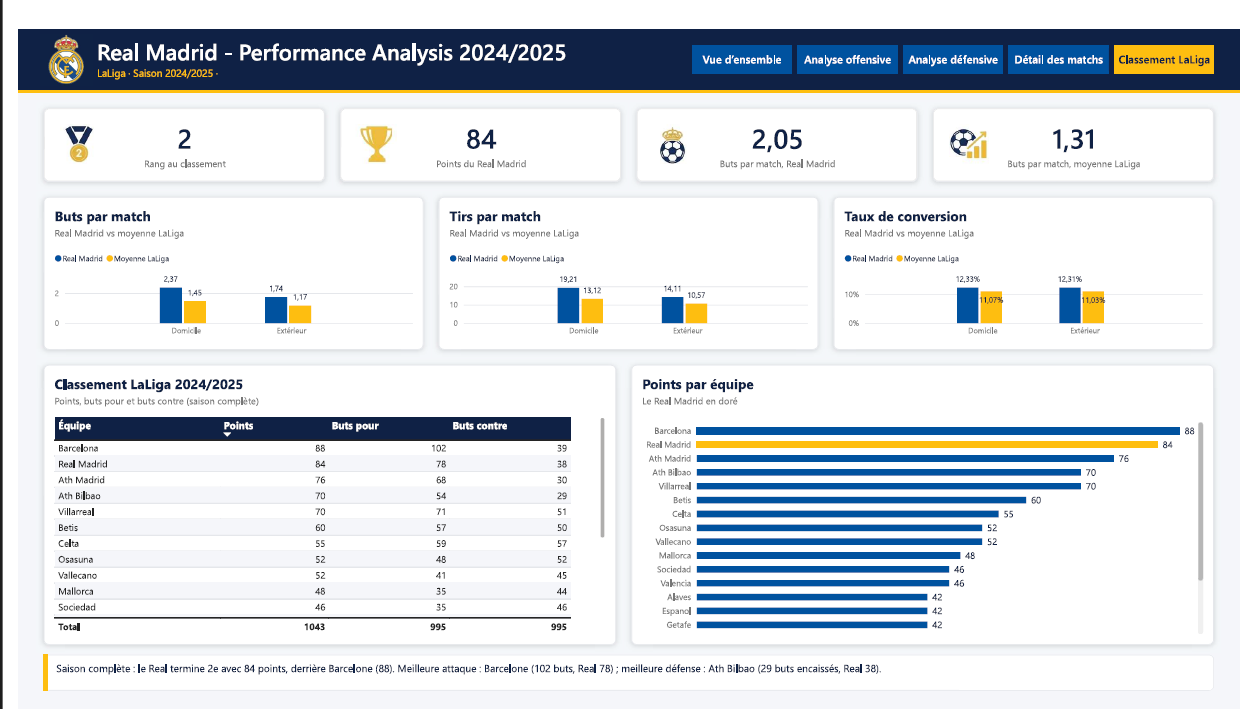

Layout of this report page (visuals, bound fields, positions):
{"tool":"powerbi","page":{"name":"Classement LaLiga","canvas":[1920,1080],"ordinal":4},"visuals":[{"type":"shape","box":[0,0,1920,96],"z":0},{"type":"shape","box":[0,96,1920,4],"z":1},{"type":"textbox","box":[124,12,920,48],"z":2},{"type":"textbox","box":[124,58,920,30],"z":3},{"type":"image","box":[36,8,80,80],"z":4},{"type":"shape","box":[1060,26,156,44],"z":11},{"type":"shape","box":[1226,26,156,44],"z":12},{"type":"shape","box":[1392,26,156,44],"z":13},{"type":"shape","box":[1558,26,156,44],"z":14},{"type":"shape","box":[1724,26,156,44],"z":15},{"type":"textbox","box":[1060,35,156,35],"z":21},{"type":"textbox","box":[1226,35,156,35],"z":22},{"type":"textbox","box":[1392,35,156,35],"z":23},{"type":"textbox","box":[1558,35,156,35],"z":24},{"type":"textbox","box":[1724,35,156,35],"z":25},{"type":"actionButton","box":[1060,26,156,44],"z":31},{"type":"actionButton","box":[1226,26,156,44],"z":32},{"type":"actionButton","box":[1392,26,156,44],"z":33},{"type":"actionButton","box":[1558,26,156,44],"z":34},{"type":"actionButton","box":[1724,26,156,44],"z":35},{"type":"shape","box":[40,984,1840,56],"z":70},{"type":"shape","box":[40,984,6,56],"z":71},{"type":"textbox","box":[60,994,1800,40],"z":72},{"type":"cardVisual","fields":{"Data":["LaLiga_Equipes.Rang du Real (points)"]},"box":[40,124,442,116],"z":100},{"type":"cardVisual","fields":{"Data":["Real_Madrid_2024_2025.Points"]},"box":[506,124,442,116],"z":101},{"type":"cardVisual","fields":{"Data":["Average(Real_Madrid_2024_2025.Buts par match)"]},"box":[972,124,442,116],"z":102},{"type":"cardVisual","fields":{"Data":["LaLiga_Equipes.Buts par match (LaLiga)"]},"box":[1438,124,442,116],"z":103},{"type":"clusteredColumnChart","title":"Buts par match","fields":{"Category":["Real_Madrid_2024_2025.Lieu du match"],"Y":["Average(Real_Madrid_2024_2025.Buts par match)","LaLiga_Equipes.Buts par match (LaLiga)"]},"box":[40,264,597,240],"z":200},{"type":"clusteredColumnChart","title":"Tirs par match","fields":{"Category":["Real_Madrid_2024_2025.Lieu du match"],"Y":["Average(Real_Madrid_2024_2025.Tirs par match)","LaLiga_Equipes.Tirs par match (LaLiga)"]},"box":[661,264,597,240],"z":201},{"type":"clusteredColumnChart","title":"Taux de conversion","fields":{"Category":["Real_Madrid_2024_2025.Lieu du match"],"Y":["Real_Madrid_2024_2025.Taux de conversion","LaLiga_Equipes.Conversion (LaLiga)"]},"box":[1282,264,597,240],"z":202},{"type":"tableEx","title":"Classement LaLiga 2024/2025","fields":{"Values":["LaLiga_Equipes.Equipe","Sum(LaLiga_Equipes.Points)","Sum(LaLiga_Equipes.ButsPour)","Sum(LaLiga_Equipes.ButsContre)"]},"box":[40,528,900,440],"z":203},{"type":"clusteredBarChart","title":"Points par équipe","fields":{"Category":["LaLiga_Equipes.Equipe"],"Y":["Sum(LaLiga_Equipes.Points)"]},"box":[964,528,916,440],"z":204},{"type":"image","box":[64,150,64,64],"z":300},{"type":"image","box":[530,150,64,64],"z":301},{"type":"image","box":[996,150,64,64],"z":302},{"type":"image","box":[1462,150,64,64],"z":303}]}

Visuals, with their boxes in screenshot pixels (x1, y1, x2, y2), scaled from the page's 1920x1080 canvas onto the 1252x709 screenshot:
shape: [left=0, top=0, right=1251, bottom=63]
shape: [left=0, top=63, right=1251, bottom=66]
textbox: [left=81, top=8, right=681, bottom=39]
textbox: [left=81, top=38, right=681, bottom=58]
image: [left=23, top=5, right=76, bottom=58]
shape: [left=691, top=17, right=793, bottom=46]
shape: [left=799, top=17, right=901, bottom=46]
shape: [left=908, top=17, right=1009, bottom=46]
shape: [left=1016, top=17, right=1118, bottom=46]
shape: [left=1124, top=17, right=1226, bottom=46]
textbox: [left=691, top=23, right=793, bottom=46]
textbox: [left=799, top=23, right=901, bottom=46]
textbox: [left=908, top=23, right=1009, bottom=46]
textbox: [left=1016, top=23, right=1118, bottom=46]
textbox: [left=1124, top=23, right=1226, bottom=46]
actionButton: [left=691, top=17, right=793, bottom=46]
actionButton: [left=799, top=17, right=901, bottom=46]
actionButton: [left=908, top=17, right=1009, bottom=46]
actionButton: [left=1016, top=17, right=1118, bottom=46]
actionButton: [left=1124, top=17, right=1226, bottom=46]
shape: [left=26, top=646, right=1226, bottom=683]
shape: [left=26, top=646, right=30, bottom=683]
textbox: [left=39, top=653, right=1213, bottom=679]
cardVisual - LaLiga_Equipes.Rang du Real (points): [left=26, top=81, right=314, bottom=158]
cardVisual - Real_Madrid_2024_2025.Points: [left=330, top=81, right=618, bottom=158]
cardVisual - Average(Real_Madrid_2024_2025.Buts par match): [left=634, top=81, right=922, bottom=158]
cardVisual - LaLiga_Equipes.Buts par match (LaLiga): [left=938, top=81, right=1226, bottom=158]
"Buts par match" clusteredColumnChart: [left=26, top=173, right=415, bottom=331]
"Tirs par match" clusteredColumnChart: [left=431, top=173, right=820, bottom=331]
"Taux de conversion" clusteredColumnChart: [left=836, top=173, right=1225, bottom=331]
"Classement LaLiga 2024/2025" tableEx: [left=26, top=347, right=613, bottom=635]
"Points par équipe" clusteredBarChart: [left=629, top=347, right=1226, bottom=635]
image: [left=42, top=98, right=83, bottom=140]
image: [left=346, top=98, right=387, bottom=140]
image: [left=649, top=98, right=691, bottom=140]
image: [left=953, top=98, right=995, bottom=140]
